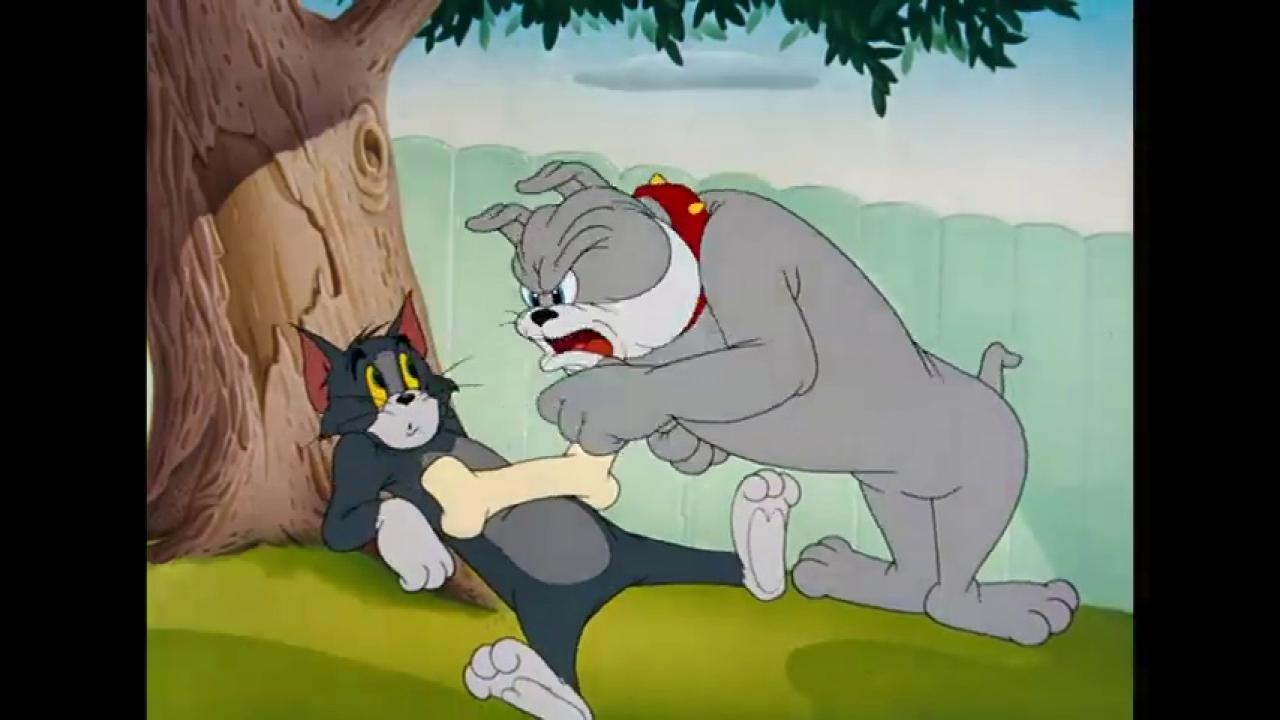Tom: (284, 286, 804, 720)
